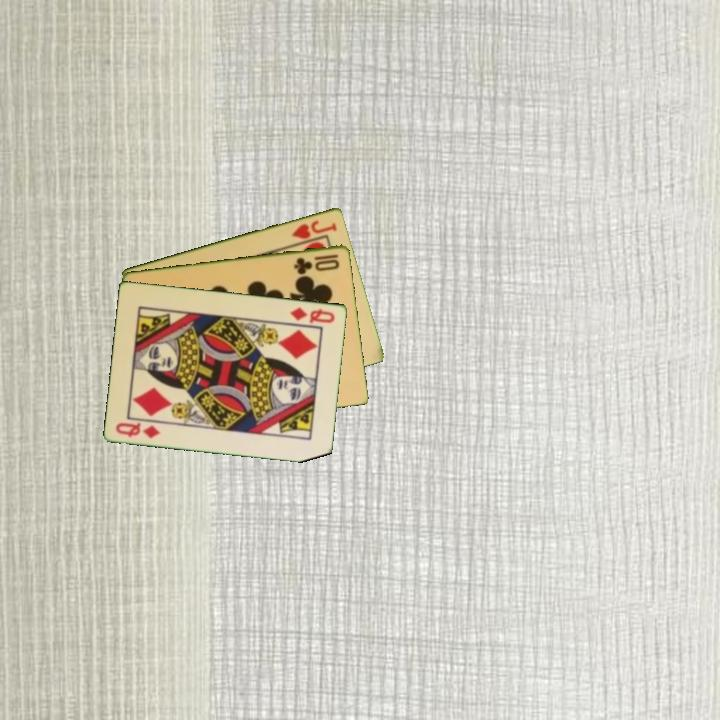10c: (291, 250, 342, 276)
Jh: (288, 216, 340, 242)
Qd: (287, 304, 338, 326), (113, 419, 163, 441)
